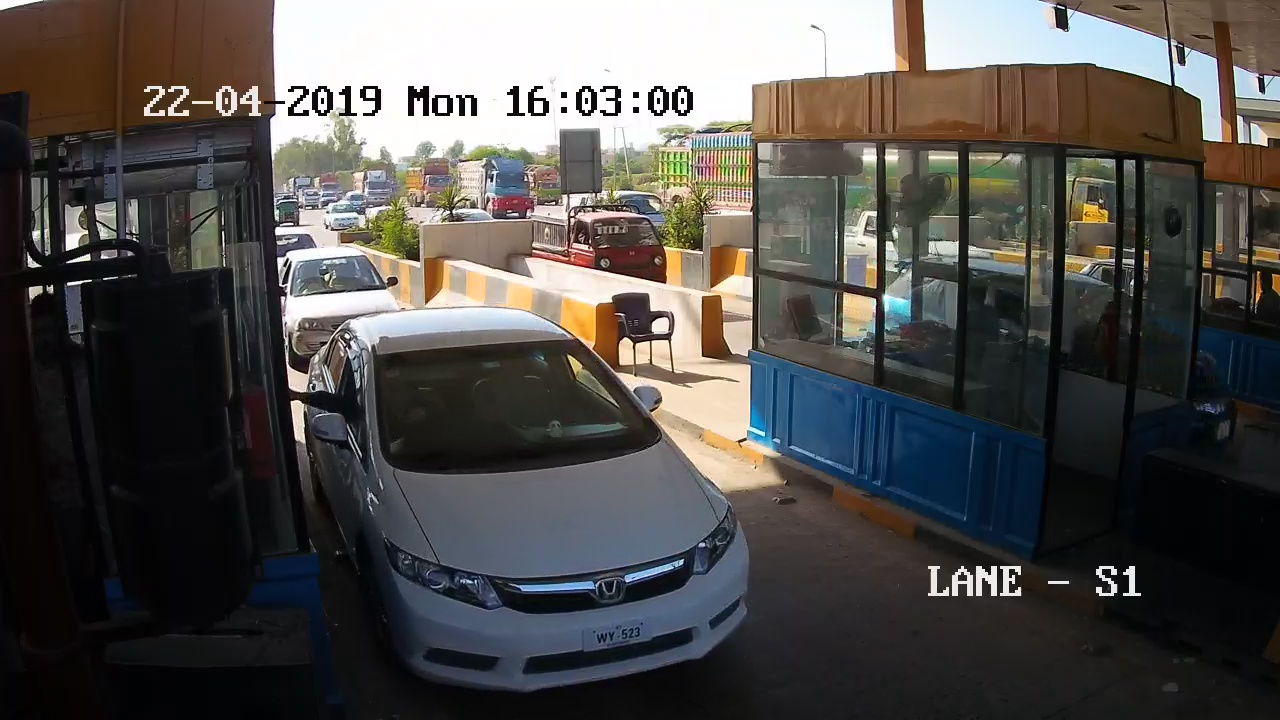Number Plate (Car): (581, 623, 650, 648)
